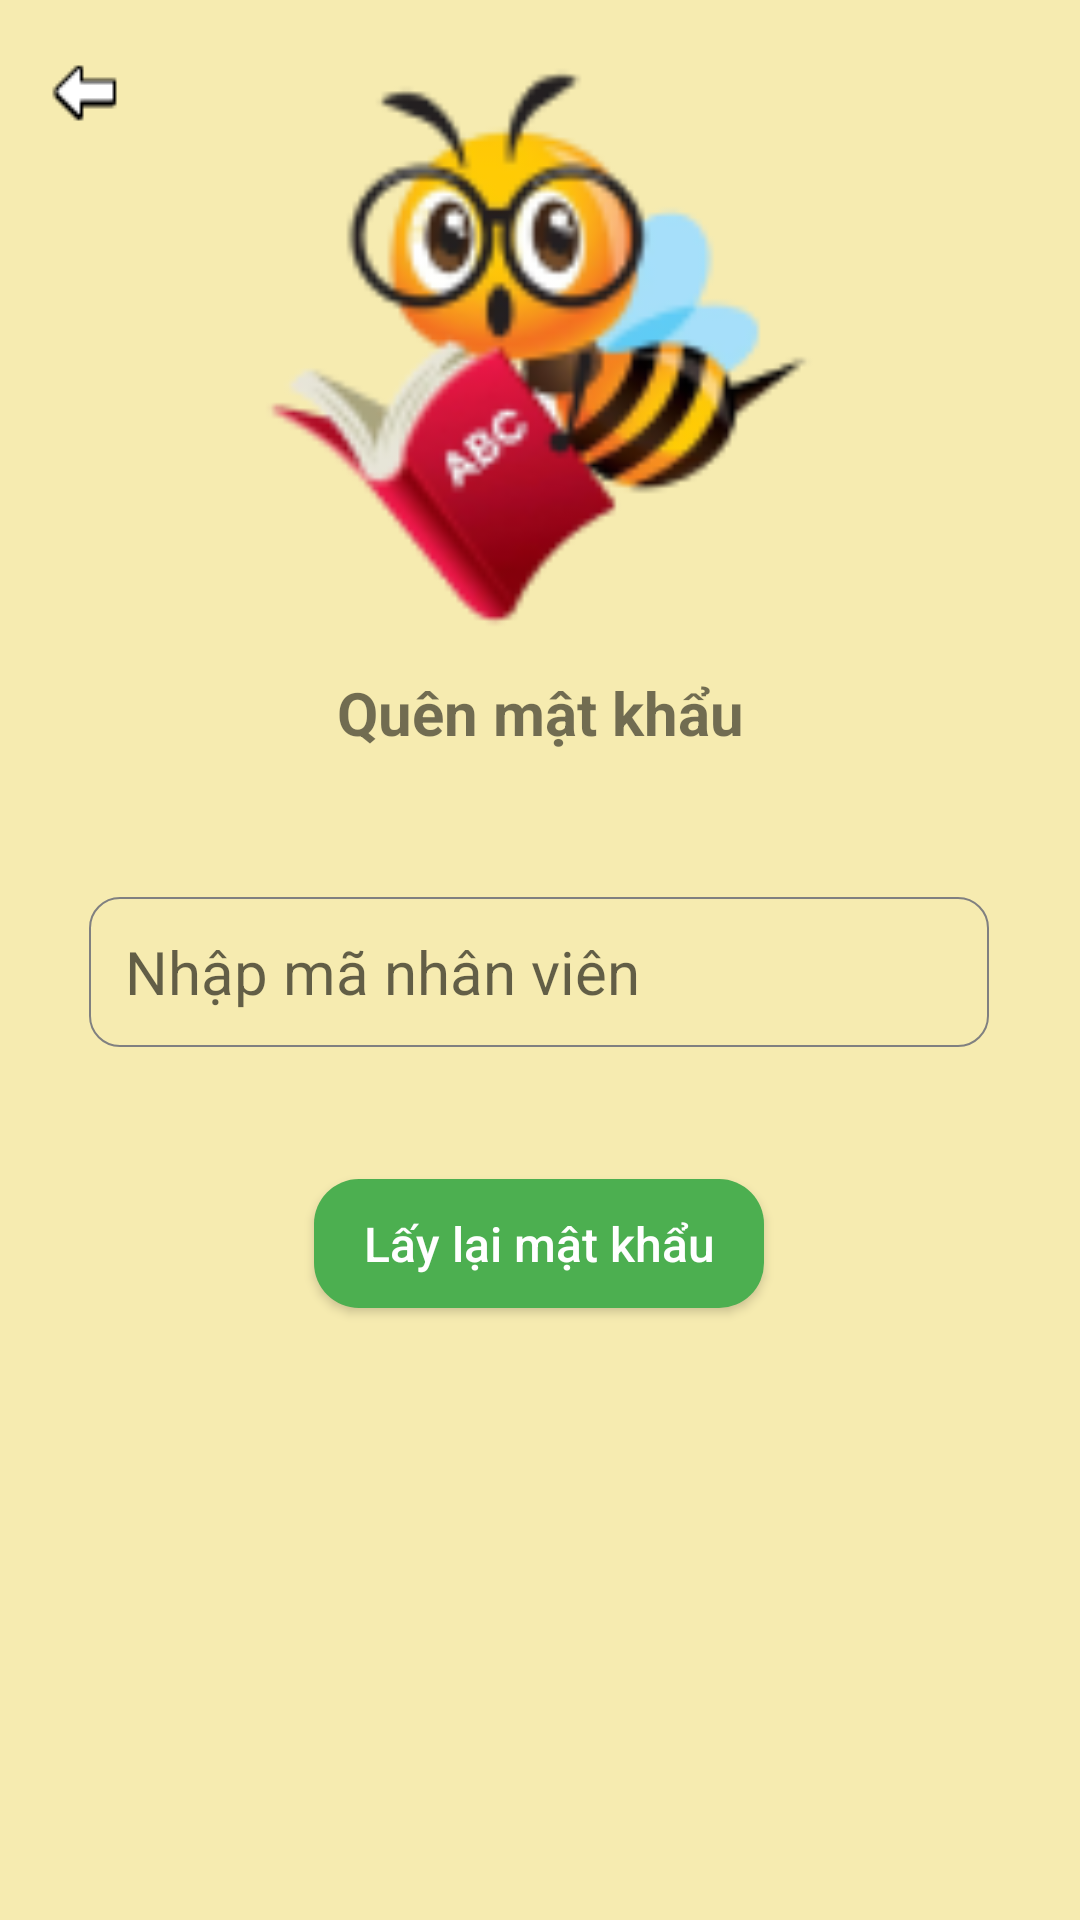

Named icons in this screenshot (1080 x 1920) and their bounding boxes, (x1, y1, x2, y2):
back: (52, 65, 117, 121)
